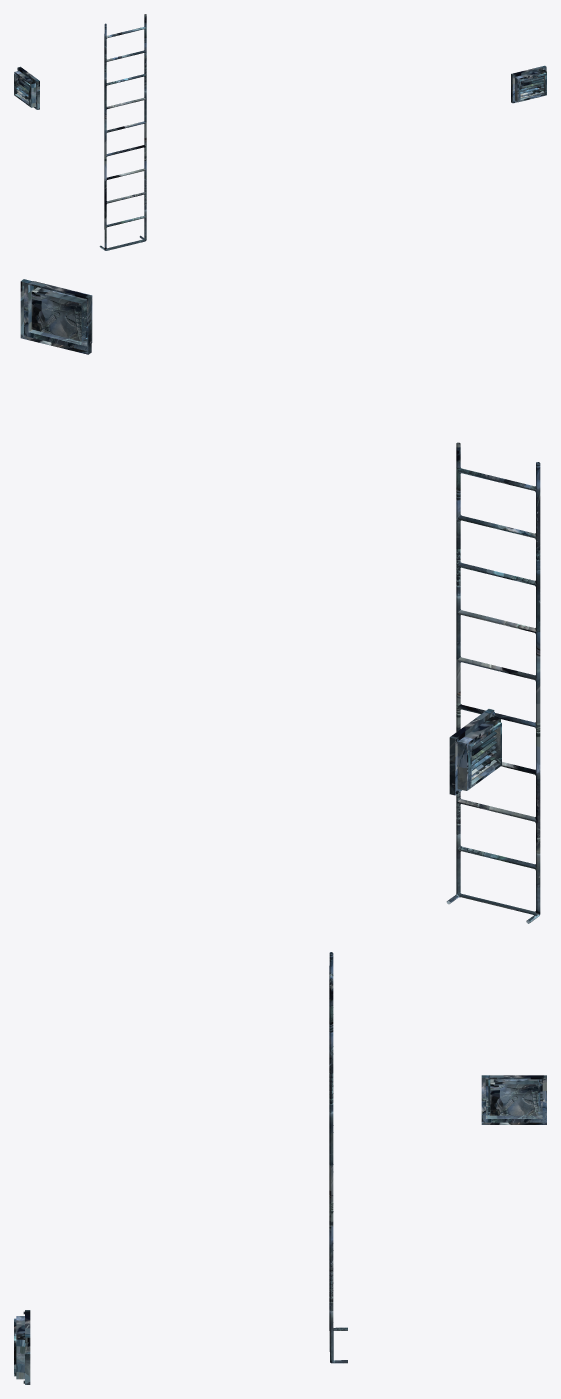
The model's file is futuristic_room_4.obj.
The picture shows the model from 3 angles, top to bottom: view 1: azimuth 30°, elevation 25°; view 2: azimuth 150°, elevation 25°; view 3: azimuth 270°, elevation 25°; orthographic projection. The views are drawn at different scales.
Size of the model in its own units: 4.45 by 2.55 by 3.26.
